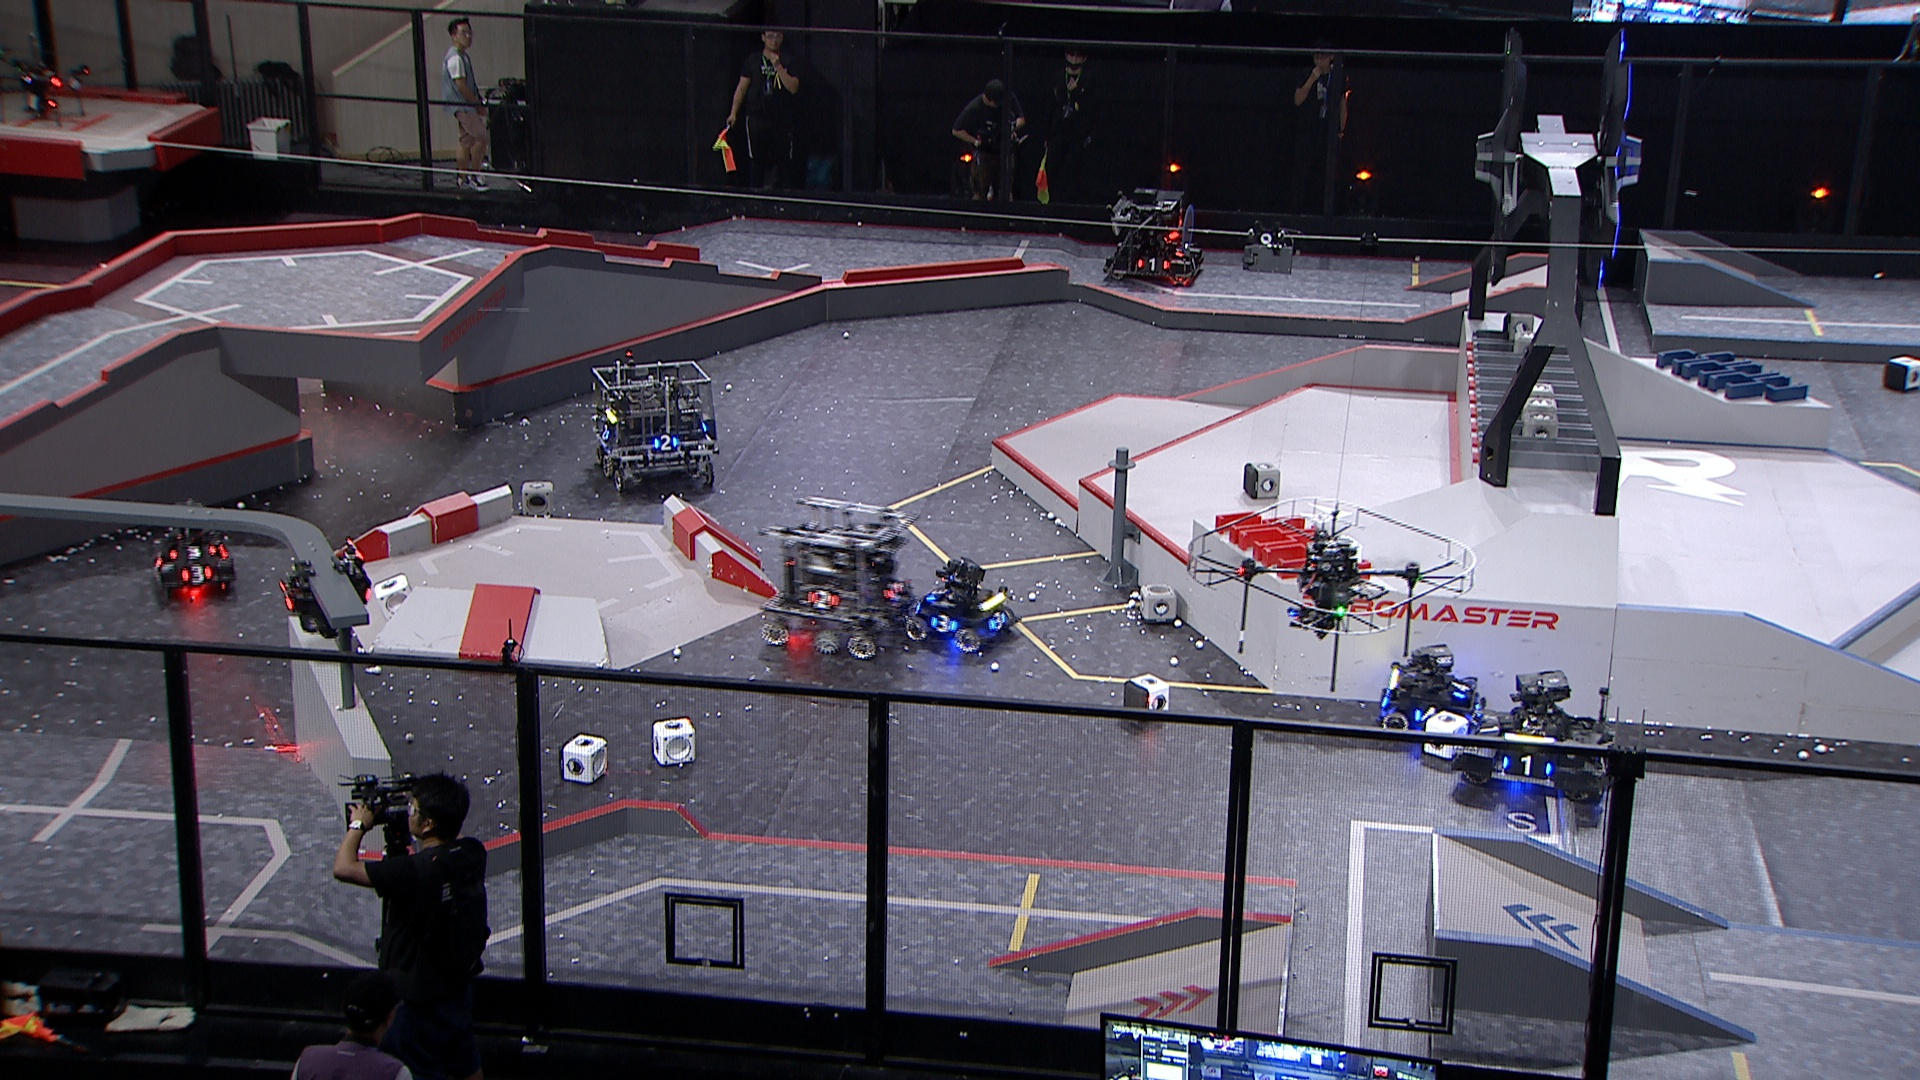armor: (1501, 752, 1555, 778), (164, 541, 218, 562), (807, 588, 843, 613), (927, 611, 960, 636), (179, 564, 216, 585), (276, 578, 297, 613), (1476, 717, 1503, 740), (651, 433, 680, 454), (1135, 256, 1171, 273), (1449, 678, 1474, 702), (1414, 705, 1437, 727), (986, 611, 1006, 636), (922, 585, 949, 603), (882, 583, 905, 600), (1187, 255, 1203, 272), (597, 425, 612, 443)
car: (756, 496, 920, 659), (1452, 669, 1619, 804), (585, 360, 723, 491), (1371, 642, 1491, 744), (905, 553, 1015, 655), (1098, 182, 1207, 285), (146, 498, 239, 607)
watcher: (276, 537, 372, 642)
